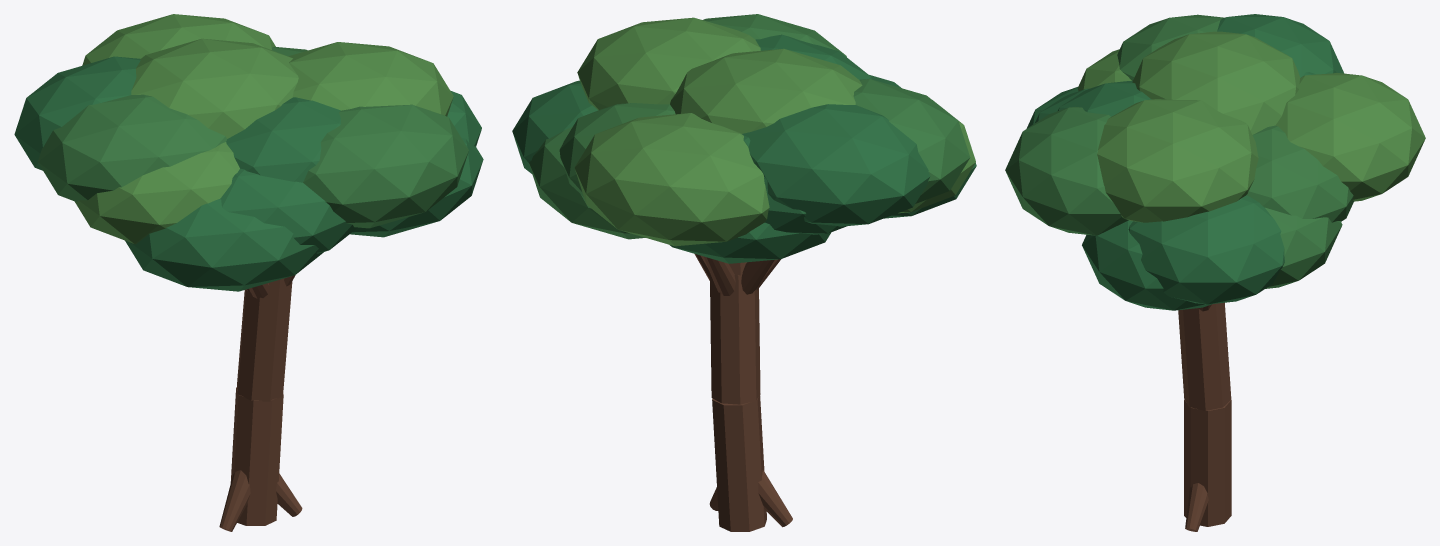
Rendered from green_tree.glb.
The picture shows the model from 3 angles, left to right: view 1: azimuth 30°, elevation 25°; view 2: azimuth 150°, elevation 25°; view 3: azimuth 270°, elevation 25°; orthographic projection. The views are drawn at different scales.
Parts seen in each view (by area): view 1: Canopy, Trunk; view 2: Canopy, Trunk; view 3: Canopy, Trunk.
Part boxes in pixels (x1,y1,x2,y2): Canopy: (14, 14, 483, 291); Trunk: (219, 275, 302, 531); Canopy: (512, 14, 976, 263); Trunk: (694, 254, 792, 531); Canopy: (1005, 14, 1425, 310); Trunk: (1178, 302, 1231, 531).
Size of the model in its own units: 7.09 by 7.6 by 6.39.
